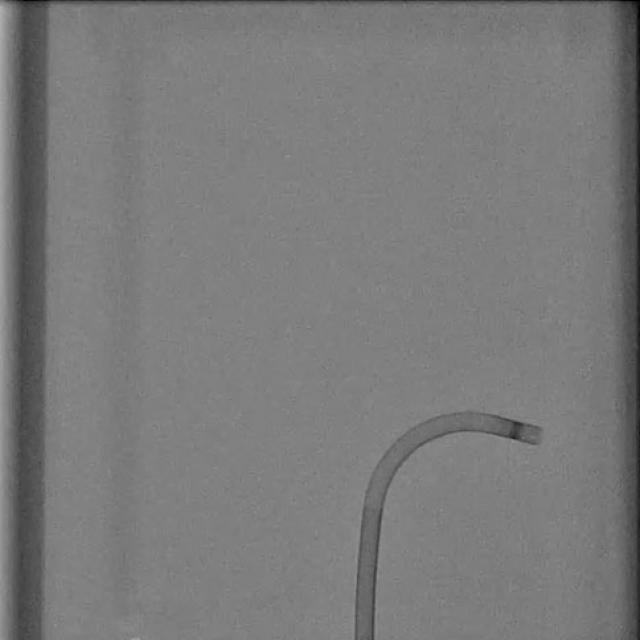bend: (364, 491, 386, 509)
entry: (356, 634, 374, 640)
marker: (508, 419, 523, 442)
tip: (533, 426, 542, 446)
